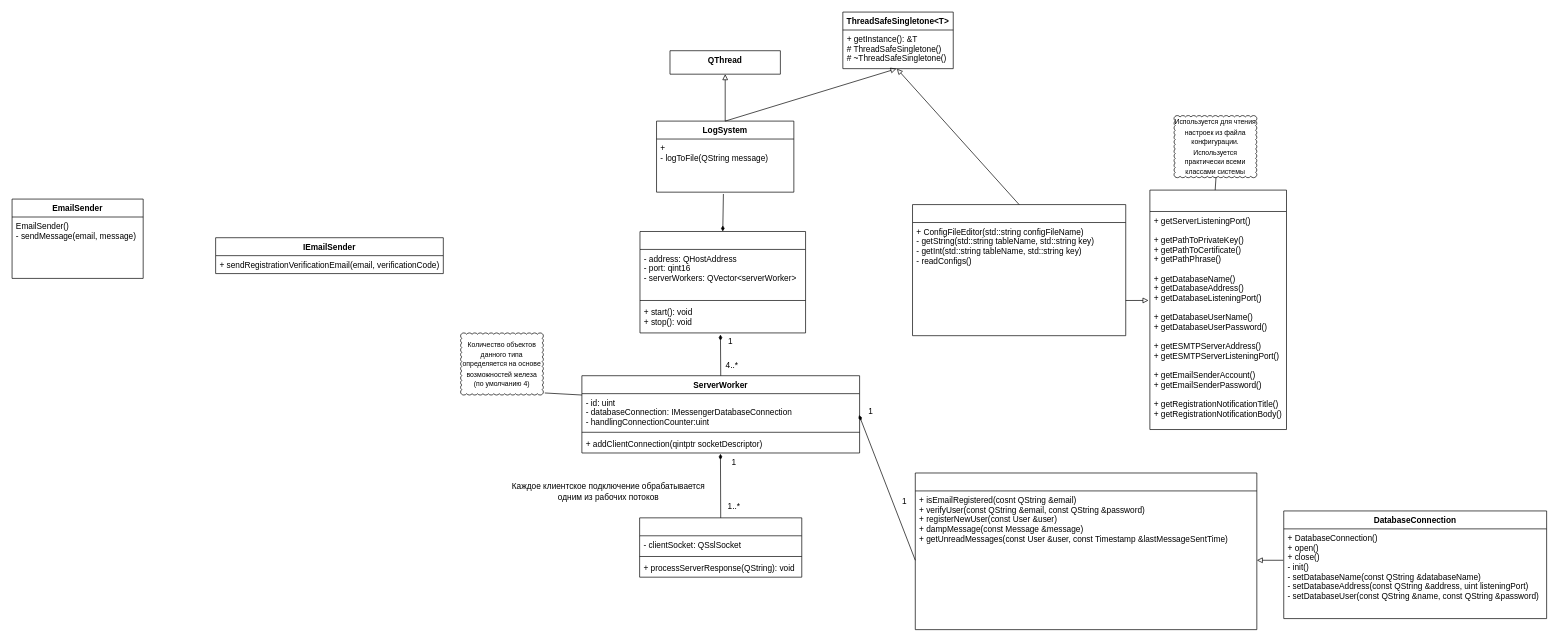
Some shapes in this 1559 by 644 pixel diagram are drawn without their labels. The box of each missing label's shape, as (x1, y1, x2, y2) in pixels:
ClientConnection: (639, 517, 802, 577)
ConfigReader: (912, 204, 1126, 336)
IConfigReader: (1149, 189, 1287, 430)
IMessengerDatabaseConnection: (915, 472, 1257, 630)
MultithreadTcpServer: (639, 231, 806, 333)
